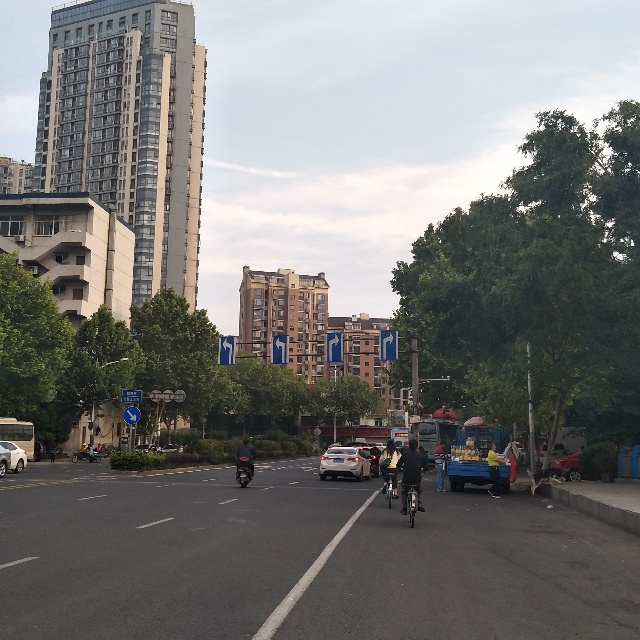left: (271, 335, 289, 364), (218, 337, 236, 364)
right: (379, 330, 398, 360), (325, 333, 343, 362)
